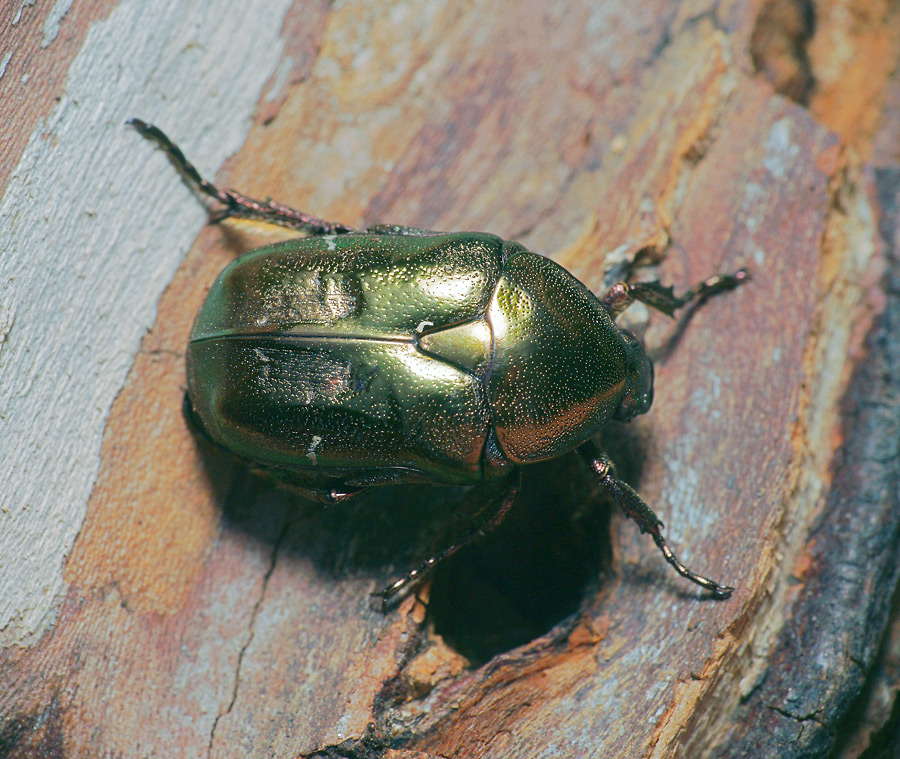Protaetia_fieberi: (120, 104, 757, 610)
